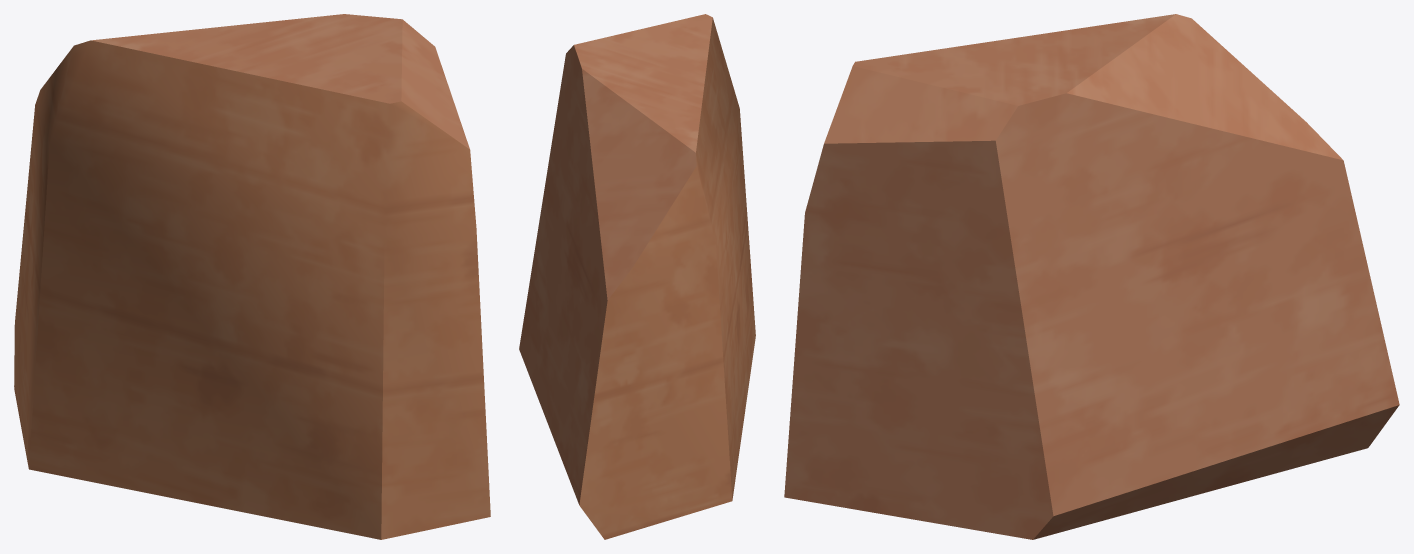
The model's file is kiln_s04.fbx.
3 renders of one model, left to right at view 1: azimuth 30°, elevation 25°; view 2: azimuth 150°, elevation 25°; view 3: azimuth 270°, elevation 25°, orthographic. The views are drawn at different scales.
Visible parts, largest first — view 1: kiln_s04; view 2: kiln_s04; view 3: kiln_s04.
Boxes of the visible parts, bbox=[...] form: kiln_s04: bbox=[14, 14, 490, 539]; kiln_s04: bbox=[519, 14, 755, 539]; kiln_s04: bbox=[784, 14, 1399, 539].
Bounding box in the file's own units: 2.43 × 3.06 × 3.82.
